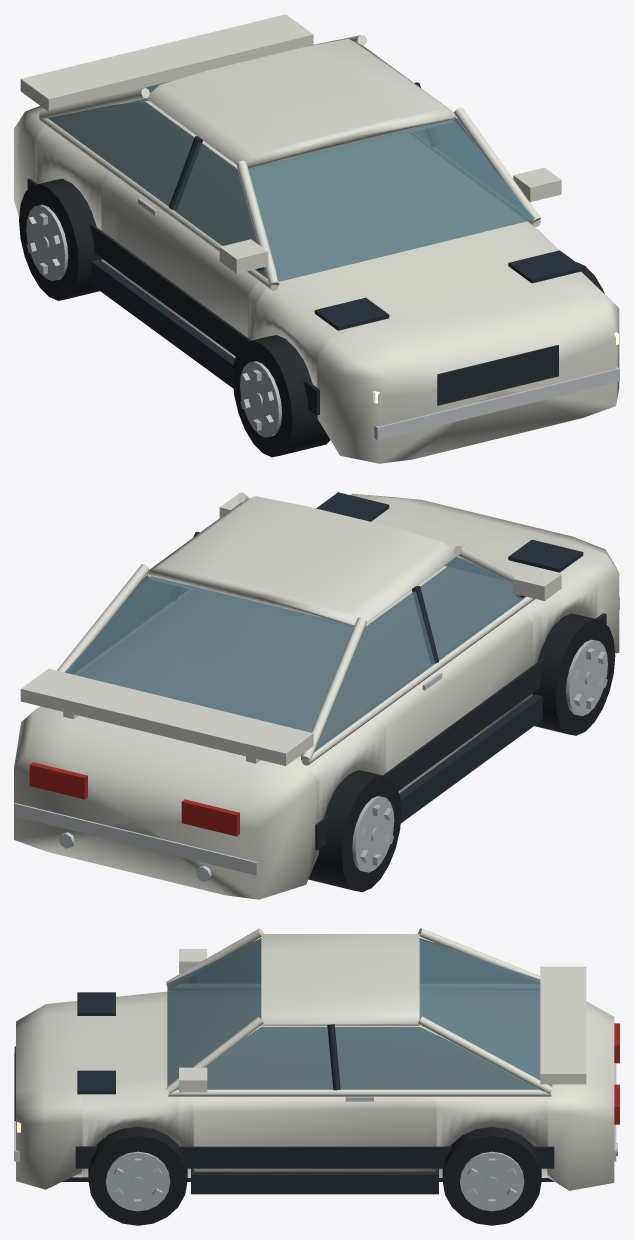
Rendered from hachiro.glb.
3 views of the same model, one above another, from view 1: azimuth 30°, elevation 25°; view 2: azimuth 150°, elevation 25°; view 3: azimuth 270°, elevation 25° (orthographic). The views are drawn at different scales.
Visible parts, largest first — view 1: exterior-paint, windows, black-trim, tire-front-left, tire-rear-left, secondary-paint, chrome, rim-front-left, rim-rear-left; view 2: exterior-paint, windows, black-trim, tire-rear-left, tire-front-left, secondary-paint, chrome, taillights, rim-rear-left, rim-front-left; view 3: exterior-paint, windows, black-trim, secondary-paint, tire-front-right, tire-rear-right, rim-front-right, rim-rear-right, chrome, taillights.
Boxes of the visible parts, x1,y1,x2,y2 form: exterior-paint: (14,14,619,463); windows: (48,81,534,281); black-trim: (91,82,583,405); tire-front-left: (232,335,330,457); tire-rear-left: (19,178,101,300); secondary-paint: (27,178,319,415); chrome: (138,198,619,440); rim-front-left: (240,361,281,437); rim-rear-left: (26,204,68,281); exterior-paint: (14,492,619,899); windows: (64,556,526,756); black-trim: (193,492,583,823); tire-rear-left: (308,770,401,892); tire-front-left: (532,613,615,735); secondary-paint: (315,613,606,850); chrome: (14,597,619,881); taillights: (29,762,239,836); rim-rear-left: (352,796,394,872); rim-front-left: (566,639,607,715); exterior-paint: (16,928,614,1190); windows: (167,938,552,1089); black-trim: (14,982,554,1194); secondary-paint: (75,1146,554,1168); tire-front-right: (88,1126,187,1225); tire-rear-right: (442,1127,541,1225); rim-front-right: (105,1151,170,1211); rim-rear-right: (460,1151,524,1211); chrome: (14,1053,617,1161); taillights: (614,1023,619,1124).
Bounding box in the file's own units: 1.83 × 1.19 × 3.42.
